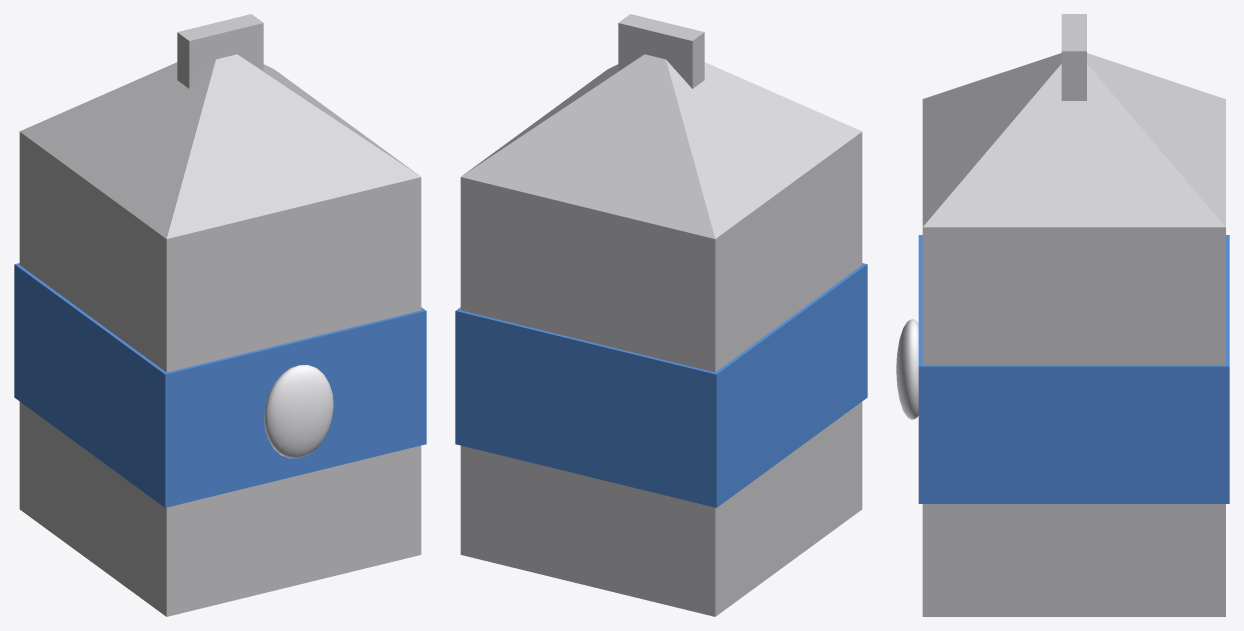
Rendered from Ice_L2.fbx.
The picture shows the model from 3 angles, left to right: view 1: azimuth 30°, elevation 25°; view 2: azimuth 150°, elevation 25°; view 3: azimuth 270°, elevation 25°; orthographic projection. The views are drawn at different scales.
Parts seen in each view (by area): view 1: I2_Carton, I2_Band, I2_Top, I2_Drop, I2_Fin; view 2: I2_Carton, I2_Band, I2_Top, I2_Fin; view 3: I2_Carton, I2_Top, I2_Band, I2_Fin, I2_Drop.
Boxes of the visible parts, x1,y1,x2,y2 form: I2_Carton: (19, 132, 421, 616); I2_Band: (14, 263, 426, 507); I2_Top: (20, 54, 420, 238); I2_Drop: (264, 365, 333, 458); I2_Fin: (177, 14, 263, 88); I2_Carton: (460, 132, 862, 616); I2_Band: (455, 263, 867, 507); I2_Top: (461, 54, 861, 238); I2_Fin: (618, 14, 704, 88); I2_Carton: (922, 227, 1225, 616); I2_Top: (922, 53, 1225, 227); I2_Band: (918, 235, 1229, 503); I2_Fin: (1061, 14, 1086, 100); I2_Drop: (896, 319, 918, 419).
Bounding box in the file's own units: 12.3 × 22.7 × 13.19.
